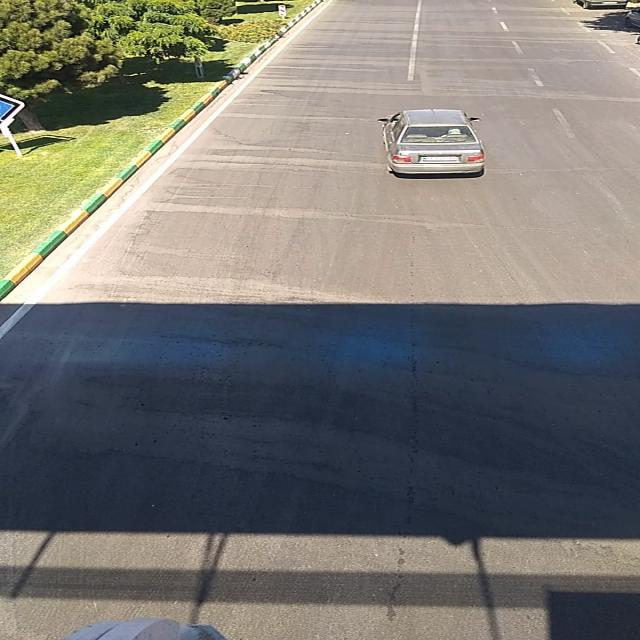car: (374, 110, 489, 178)
